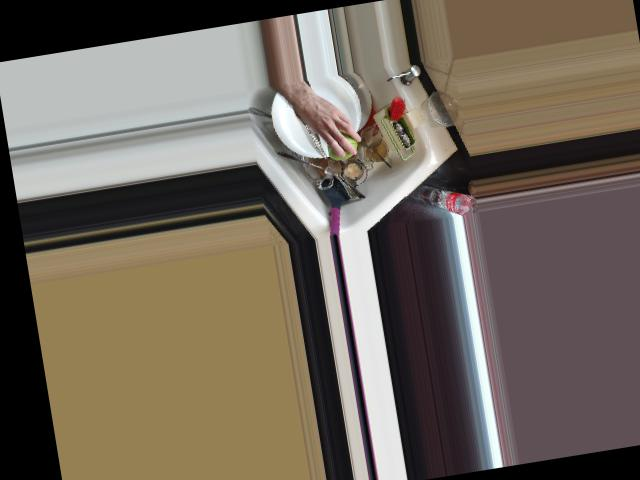apple: (322, 125, 359, 162)
